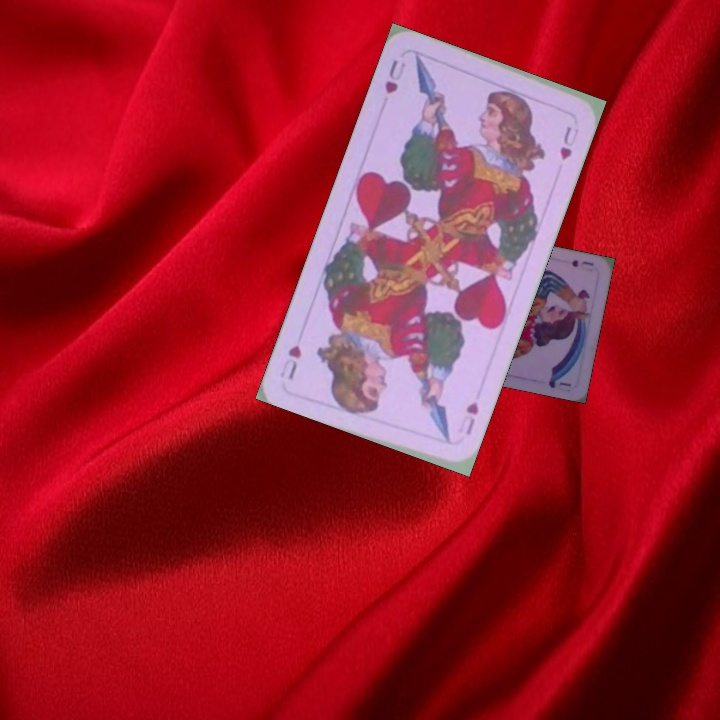HU: (380, 55, 408, 96), (454, 398, 482, 438)
SU: (567, 256, 596, 270)
